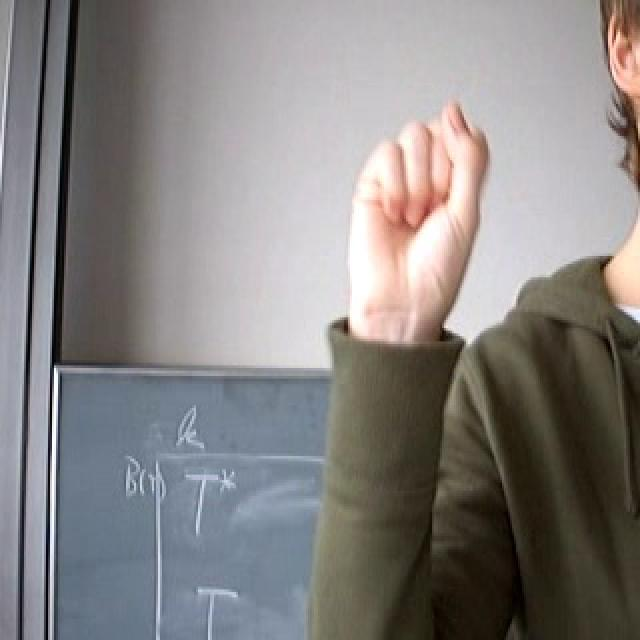S: (324, 95, 513, 337)
